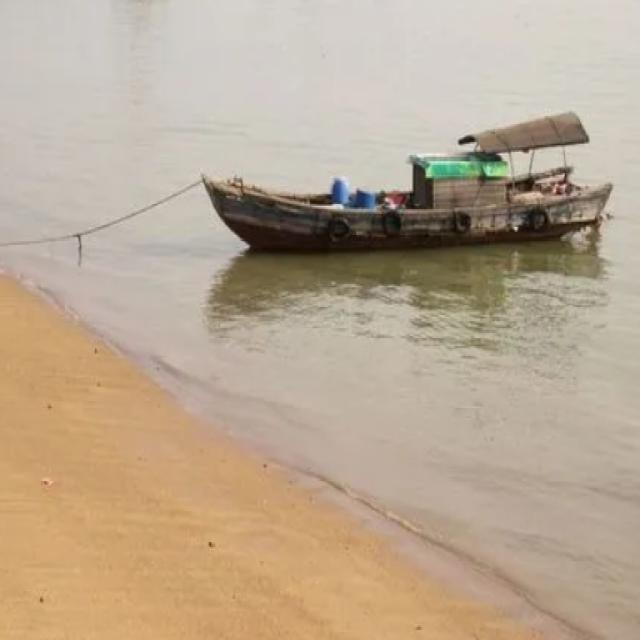fishing boat: (193, 112, 606, 245)
